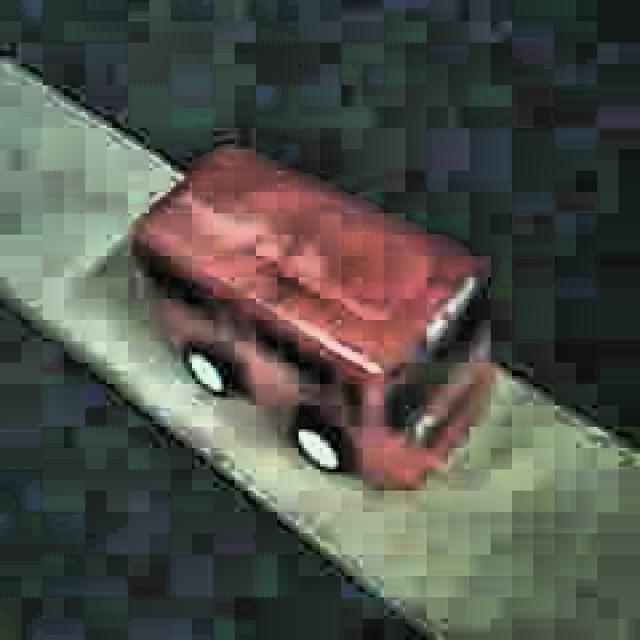bus: (127, 142, 496, 496)
